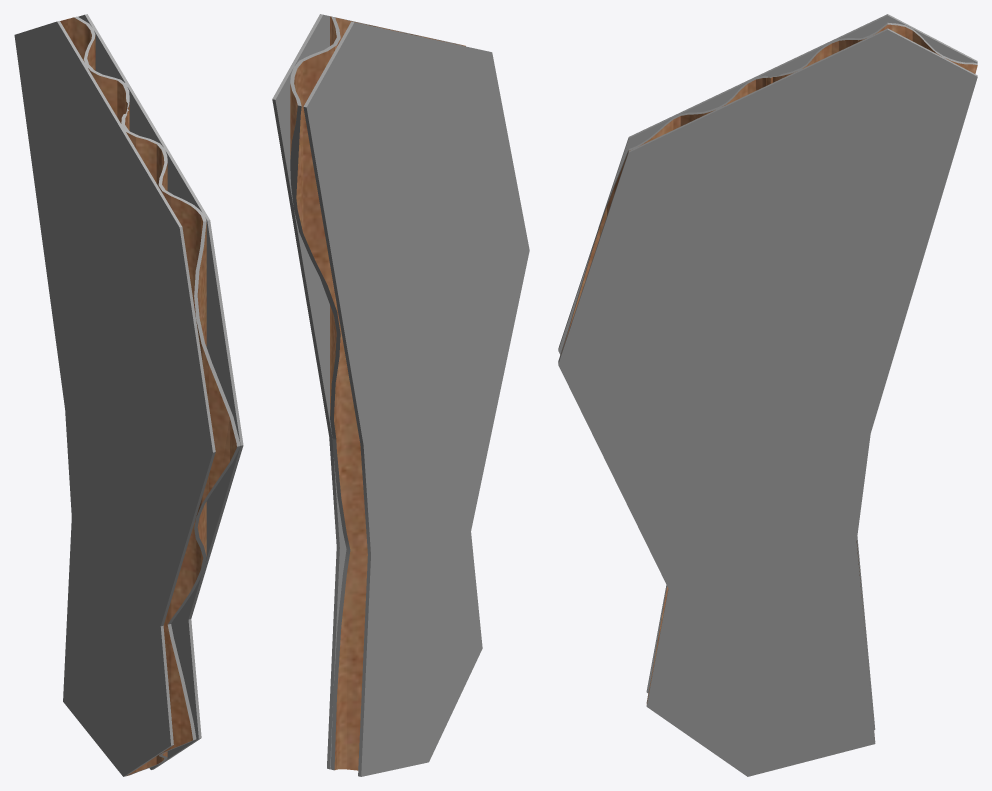
File: ExclamationMark.fbx
3 views of the same model, side by side, from view 1: azimuth 30°, elevation 25°; view 2: azimuth 150°, elevation 25°; view 3: azimuth 270°, elevation 25° (orthographic). The views are drawn at different scales.
Visible parts, largest first — view 1: pCube36; view 2: pCube36; view 3: pCube36.
Part boxes in pixels (x1,y1,x2,y2): pCube36: (14,14,243,776); pCube36: (272,14,529,776); pCube36: (558,14,977,776).
Size of the model in its own units: 6.21 by 137 by 69.78.
